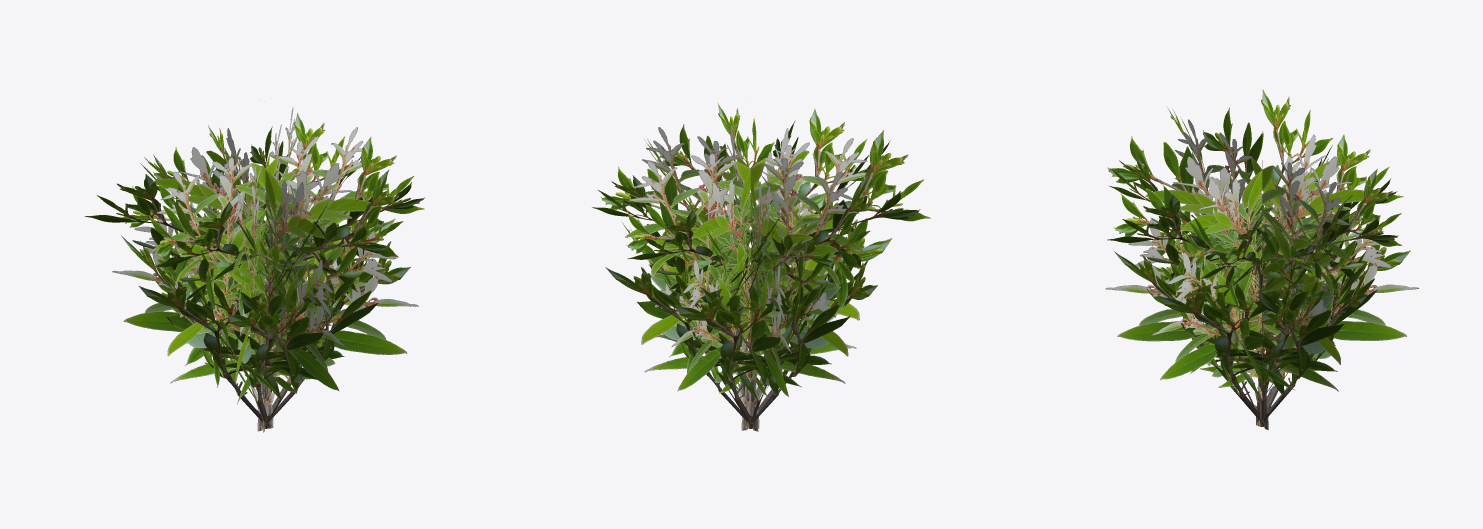
The model's file is carol.glb.
3 views of the same model, side by side, from view 1: azimuth 30°, elevation 25°; view 2: azimuth 150°, elevation 25°; view 3: azimuth 270°, elevation 25° (orthographic).
Parts seen in each view (by area): view 1: V3_6; view 2: V3_6; view 3: V3_6.
Part boxes in pixels (left/top/right/bottom): V3_6: left=84, top=106, right=424, bottom=432; V3_6: left=592, top=103, right=930, bottom=431; V3_6: left=1105, top=89, right=1419, bottom=430.
Bounding box in the file's own units: 1.74 × 1.4 × 1.7.
Materials: 2 (2 with a texture image).
